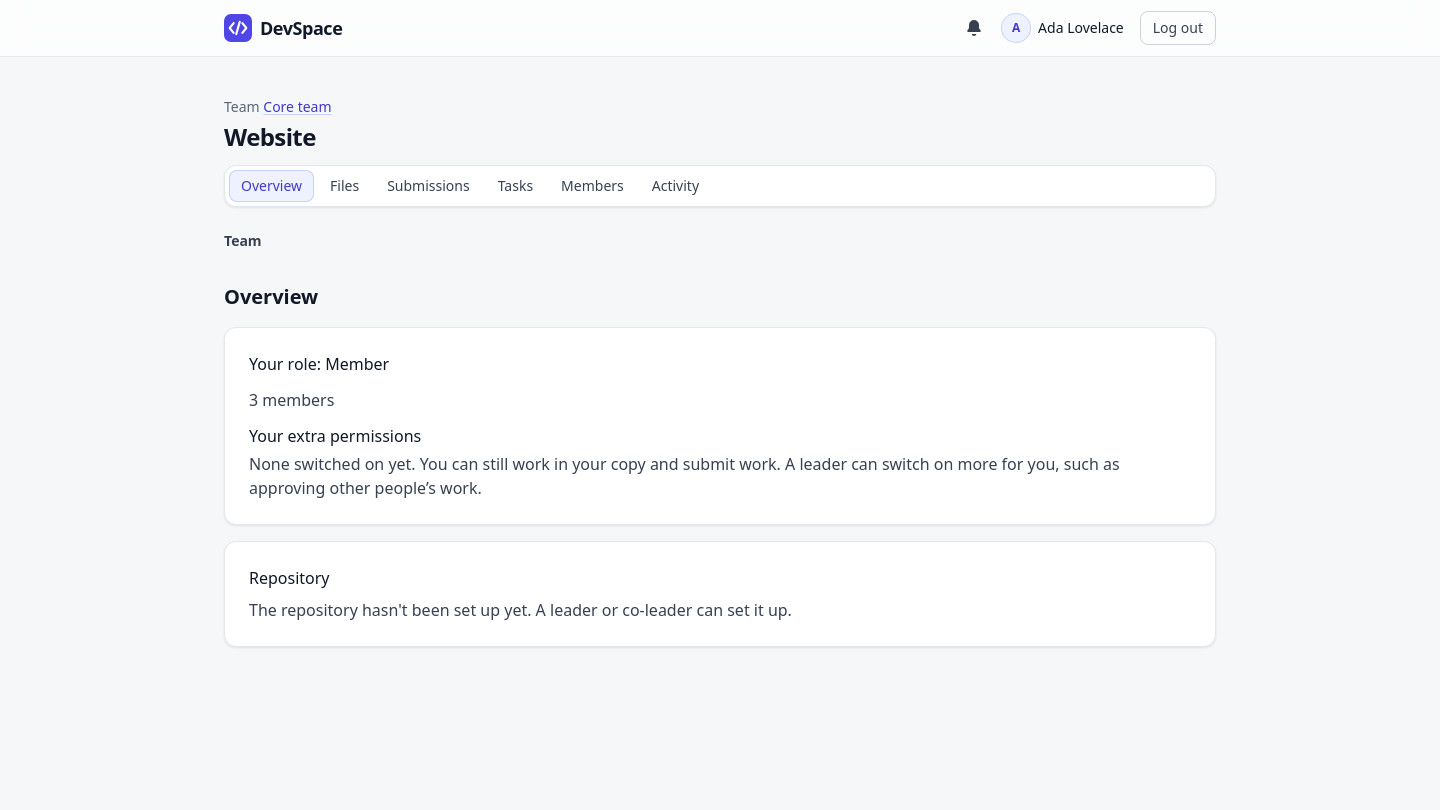
Test: Share my open file › shows the error when the change fails
The width and height of the screenshot is (1440, 810).
Click the button with test id "current-user" at (1065, 28), box [998, 10, 1132, 46]
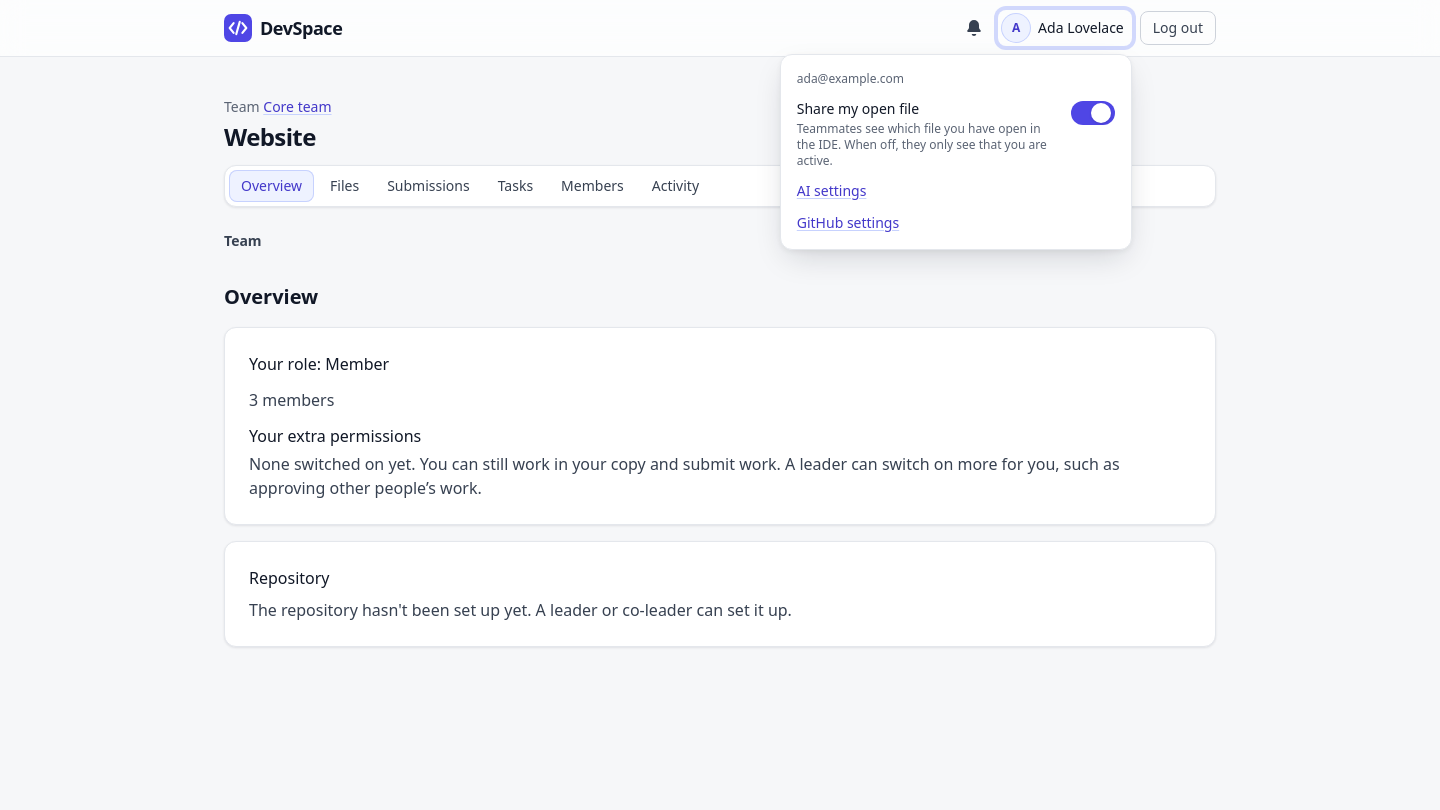
Expected: the switch named "Share my open file" is enabled
Click the switch named "Share my open file" at (1093, 113), box [1071, 101, 1115, 125]
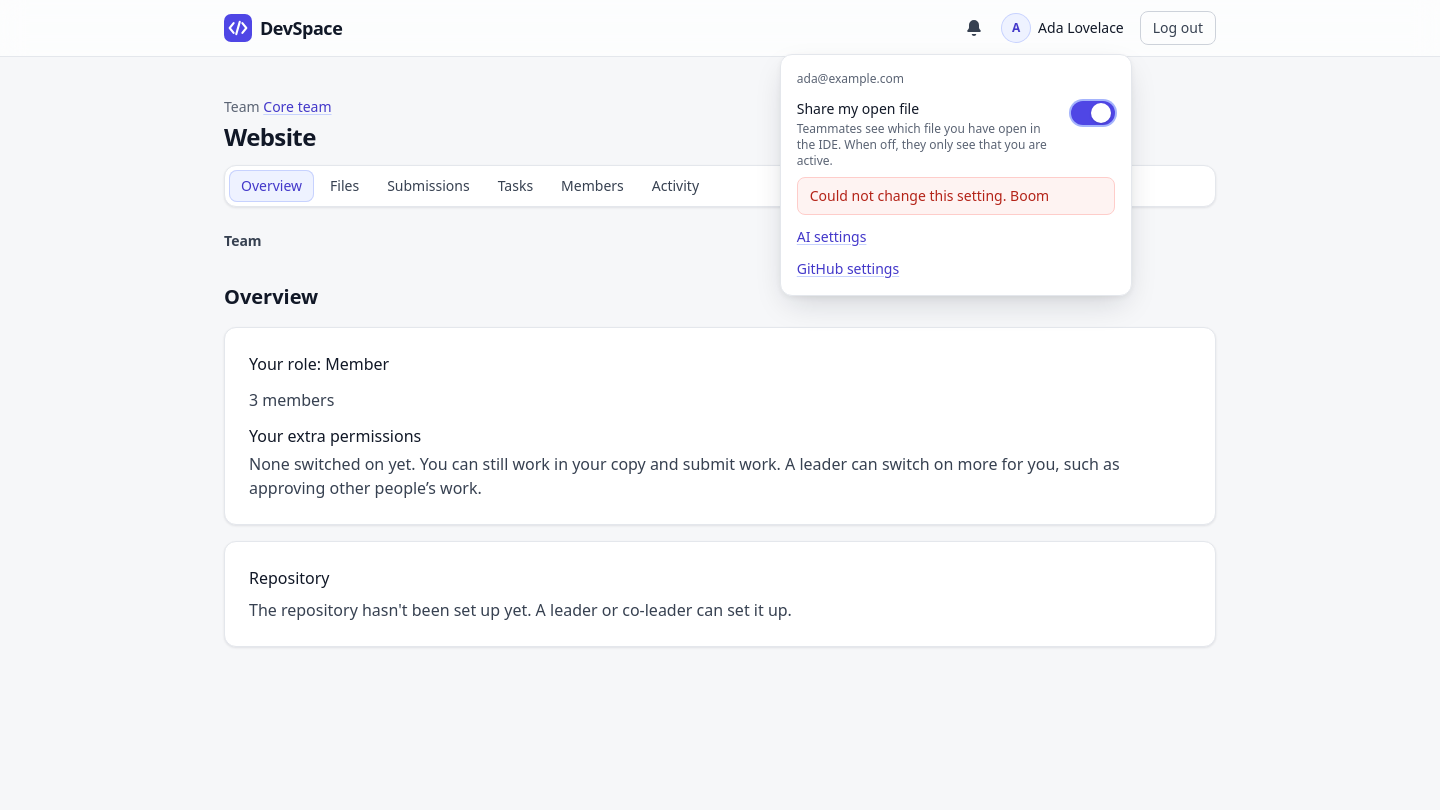
Expected: the text "Could not change this setting. Boom" is shown, [797, 177, 1115, 215]
